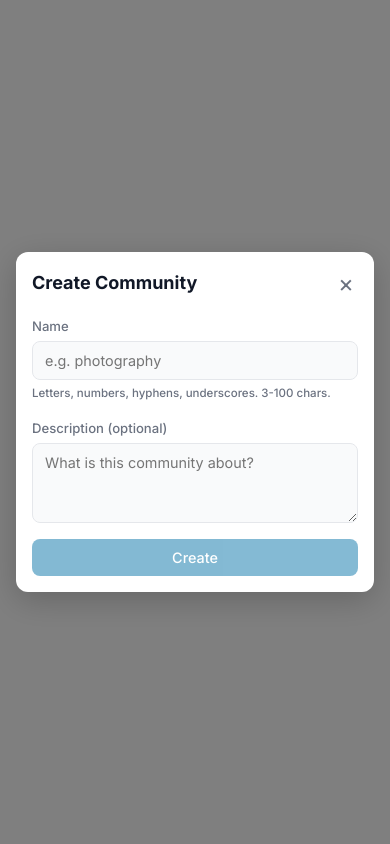
Test case: CreateCommunityModal › shows error message on API failure
In the field with placeholder "e.g. photography": (195, 360) [32, 341, 358, 380], type "photography"
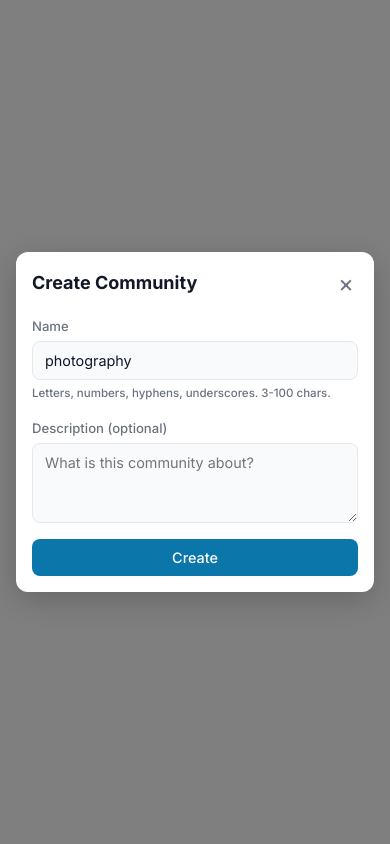
Submit the form with placeholder "e.g. photography", box [32, 316, 358, 576]
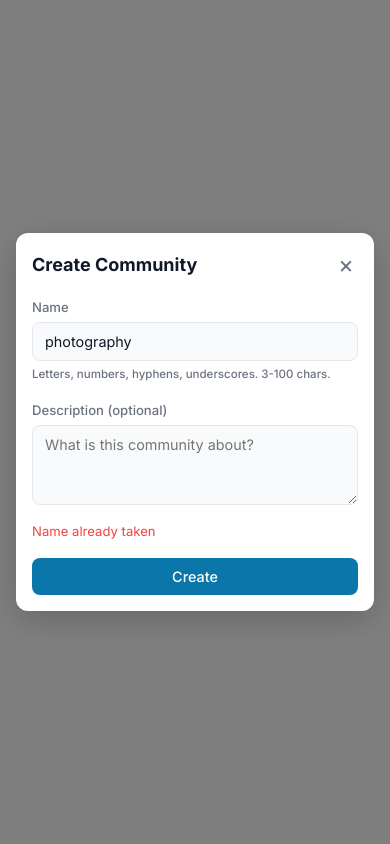
Expected: the message reads "Name already taken", [32, 523, 156, 539]
